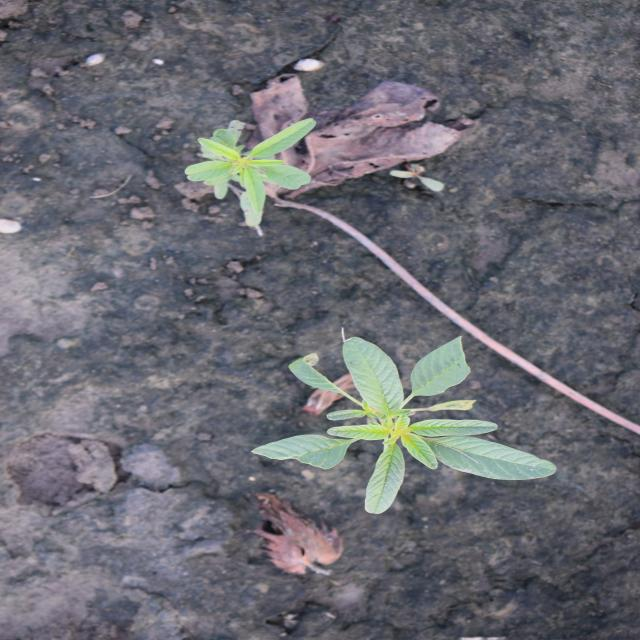Waterhemp: (248, 332, 561, 516), (178, 115, 320, 230)
